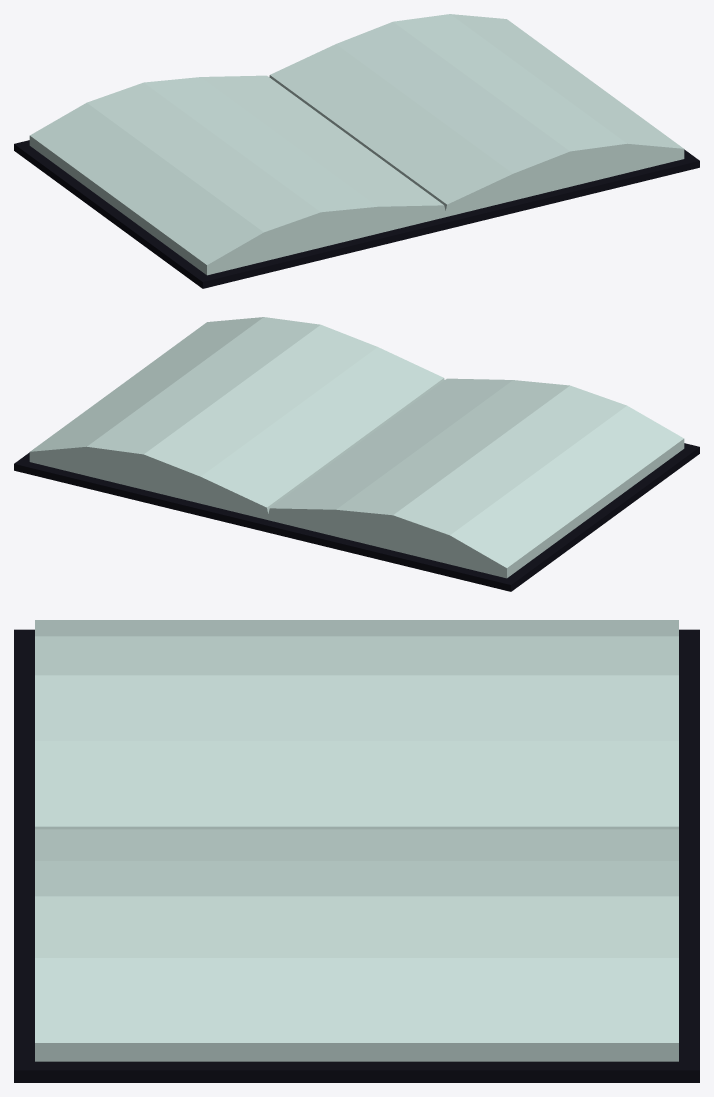
File: open book.fbx
3 views of the same model, one above another, from view 1: azimuth 30°, elevation 25°; view 2: azimuth 150°, elevation 25°; view 3: azimuth 270°, elevation 25° (orthographic). The views are drawn at different scales.
Parts seen in each view (by area): view 1: open book; view 2: open book; view 3: open book.
Part boxes in pixels (bbox=[...]): open book: bbox=[14, 14, 699, 288]; open book: bbox=[14, 317, 699, 591]; open book: bbox=[14, 620, 699, 1082].
Size of the model in its own units: 38 by 3.08 by 25.
